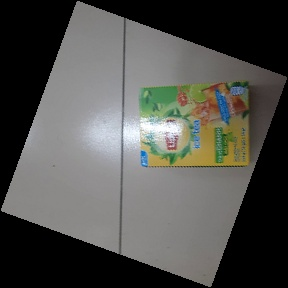LipTon: (136, 79, 252, 171)
